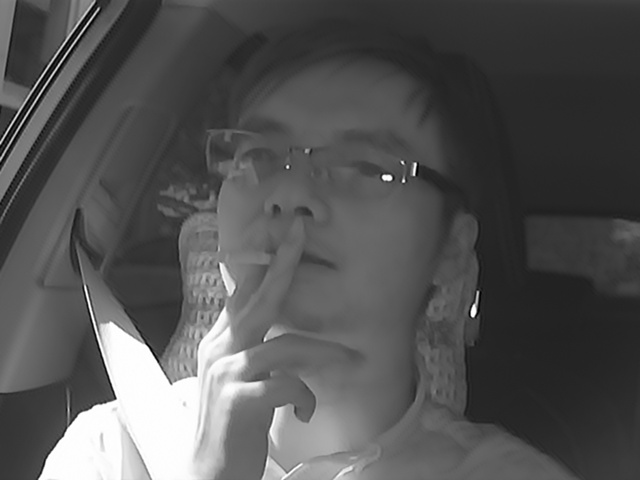hand: (188, 222, 360, 470)
